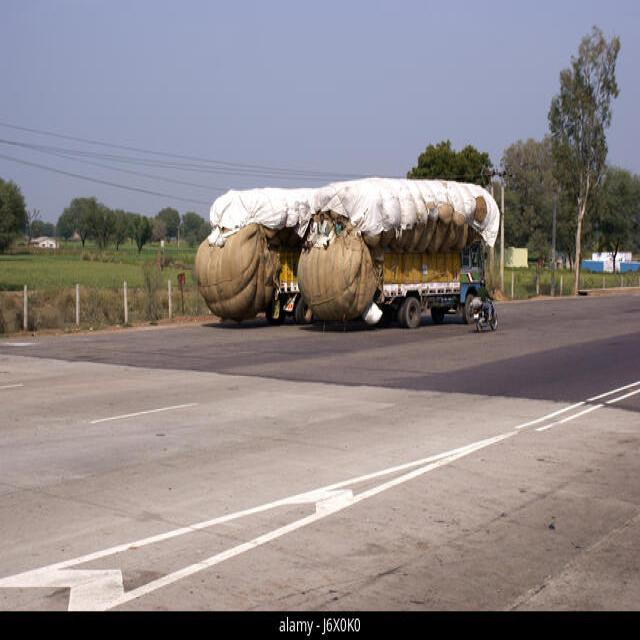goods: (299, 178, 499, 320), (195, 190, 318, 320)
truck: (378, 245, 484, 328), (266, 251, 312, 323)
